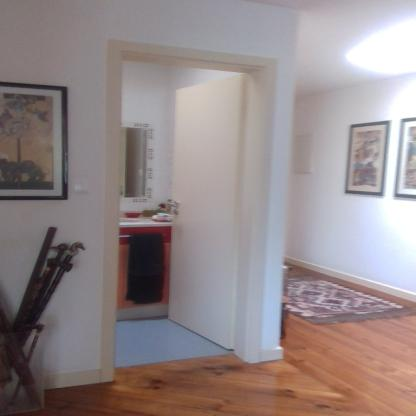open: (91, 20, 283, 389)
